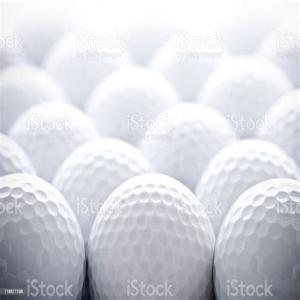Golf: (85, 179, 214, 300), (0, 173, 88, 300), (216, 179, 300, 300)
